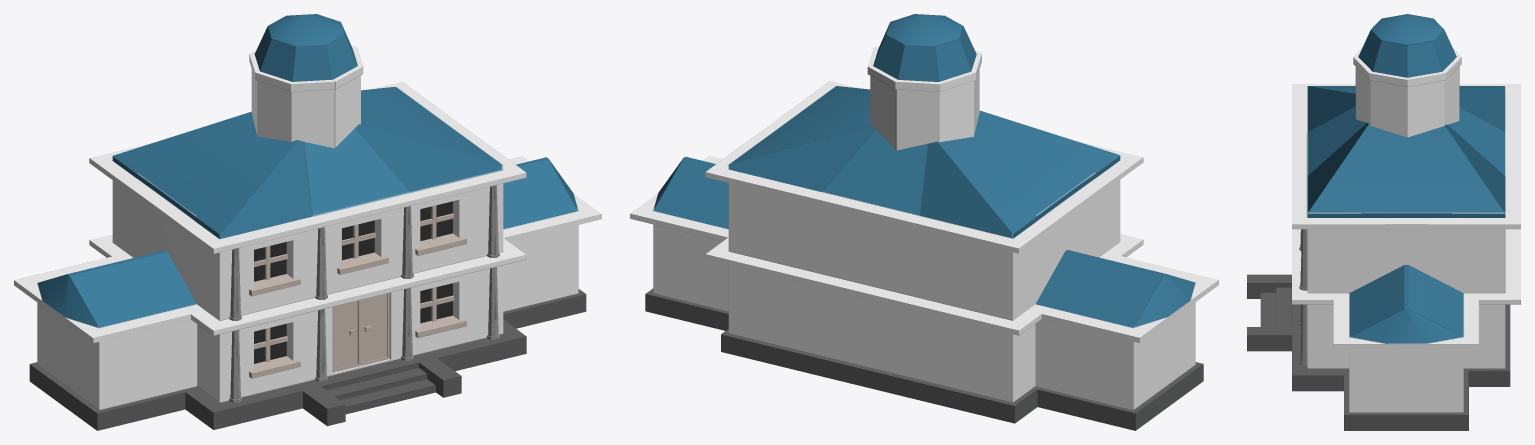
File: TownHall.fbx
The picture shows the model from 3 angles, left to right: view 1: azimuth 30°, elevation 25°; view 2: azimuth 150°, elevation 25°; view 3: azimuth 270°, elevation 25°; orthographic projection. The views are drawn at different scales.
Visible parts, largest first — view 1: BUILDING, Cylinder, Sphere, deur, Cylinder_1, Cylinder_6, Cylinder_9, Cylinder_12, Cylinder_3, balkon_2, Cylinder_15, Cylinder_18 (+6 smaller); view 2: BUILDING, Cylinder, Sphere, Cylinder_1; view 3: BUILDING, Cylinder, Sphere, Cylinder_1, Cylinder_3, Cylinder_15.
Boxes of the visible parts, x1,y1,x2,y2 form: BUILDING: (14,81,601,430); Cylinder: (251,69,360,148); Sphere: (254,14,357,81); deur: (332,293,389,372); Cylinder_1: (249,46,363,91); Cylinder_6: (402,206,412,276); Cylinder_9: (316,227,326,297); Cylinder_12: (230,248,240,318); Cylinder_3: (488,185,498,255); balkon_2: (415,233,466,255); Cylinder_15: (488,267,498,336); Cylinder_18: (402,288,412,357); BUILDING: (630,81,1218,430); Cylinder: (870,69,979,150); Sphere: (873,14,976,81); Cylinder_1: (867,46,981,91); BUILDING: (1247,84,1520,430); Cylinder: (1355,67,1459,137); Sphere: (1358,14,1456,77); Cylinder_1: (1353,48,1461,86); Cylinder_3: (1300,229,1307,288); Cylinder_15: (1300,304,1307,363).
Bounding box in the file's own units: 296 × 184 × 150.
1 material, 1 textured.
